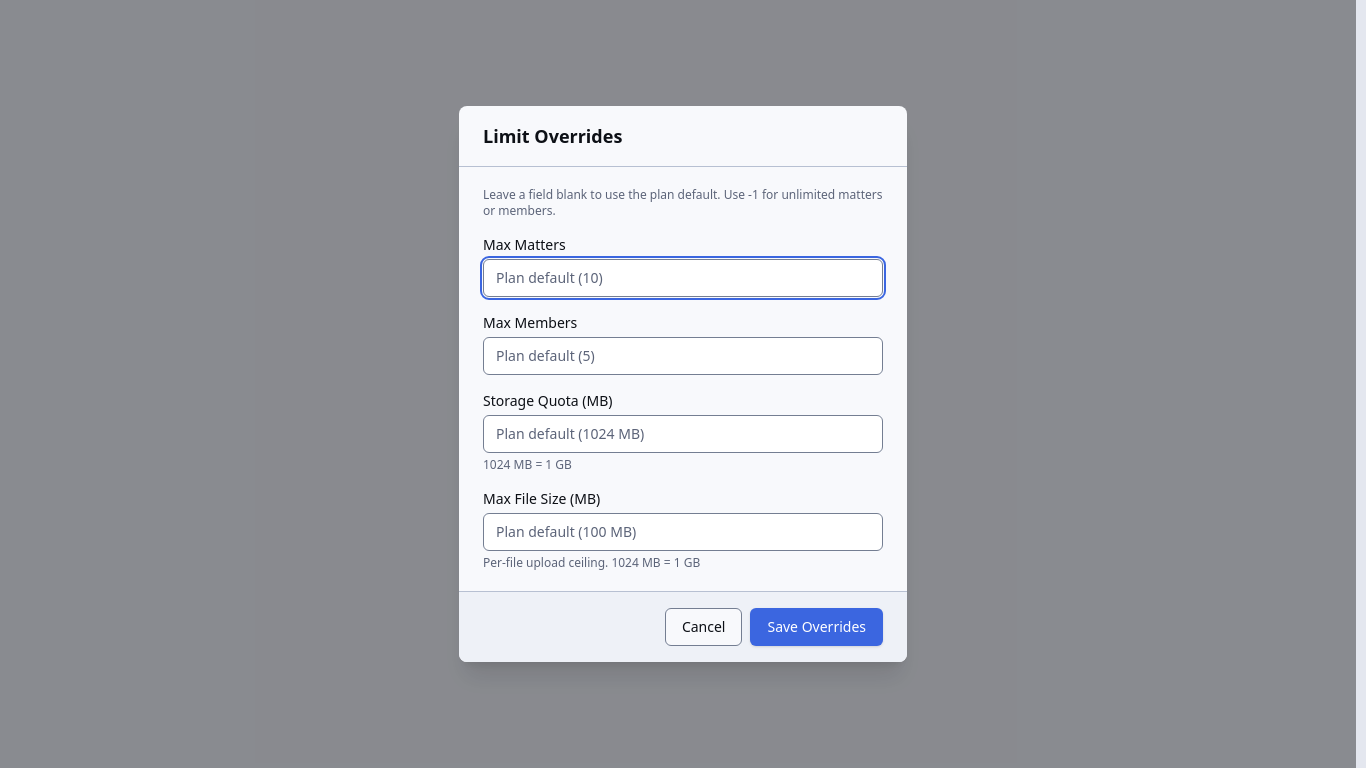
it: the Max File Size (MB) field holding -1 › is refused in the form and never sent
Type "-1" into the number field labelled "Max File Size (MB)" at (683, 532), box [483,513,883,551]
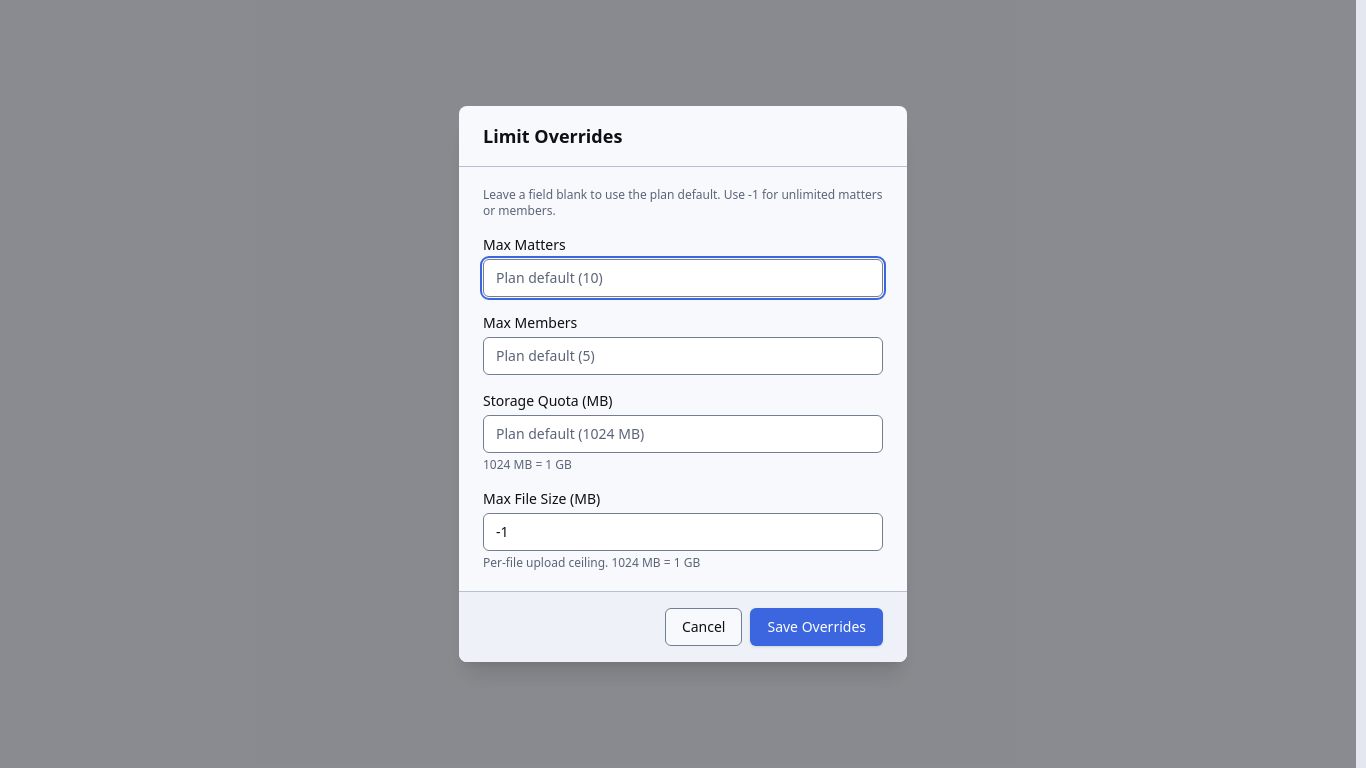
Click the button "Save Overrides" at (817, 627), box [750,608,883,646]
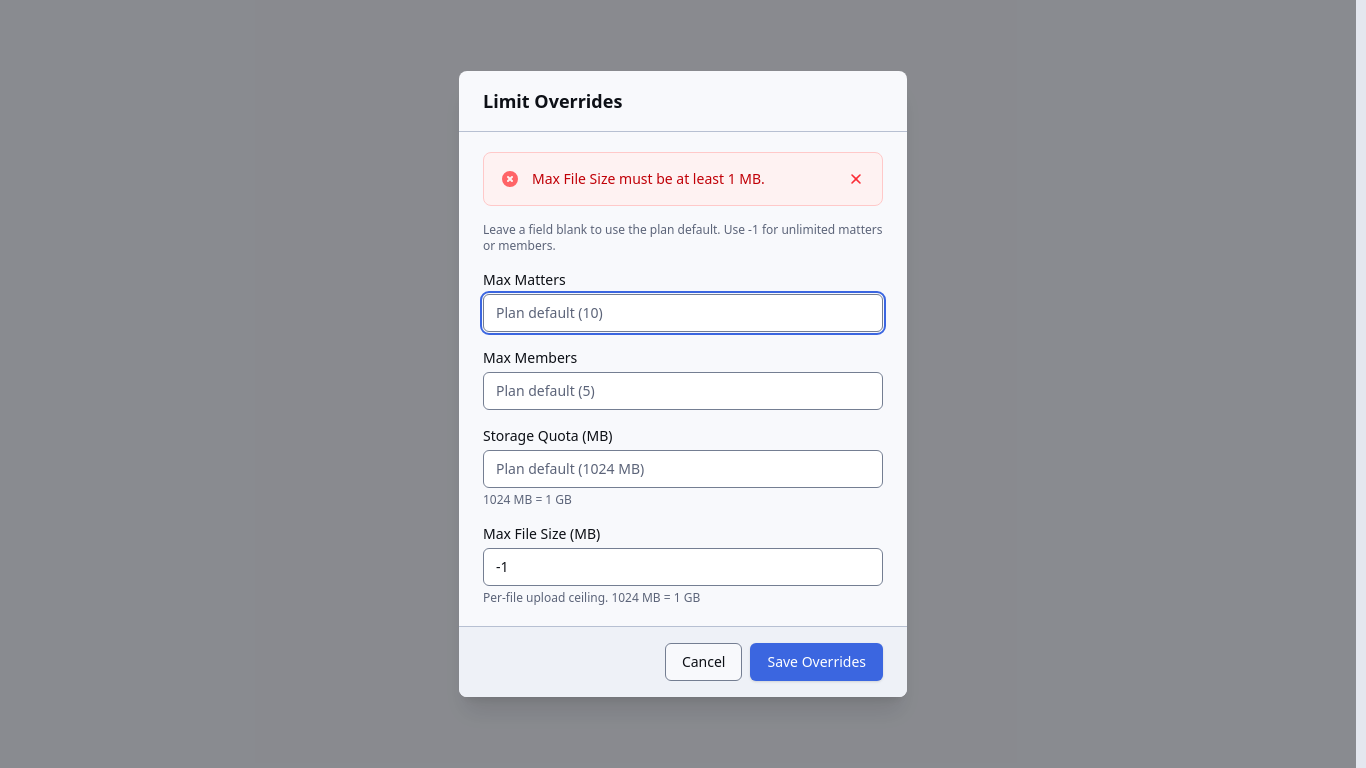
Expected: the message reads "Max File Size must be at least 1 MB.", [532,169,765,188]
